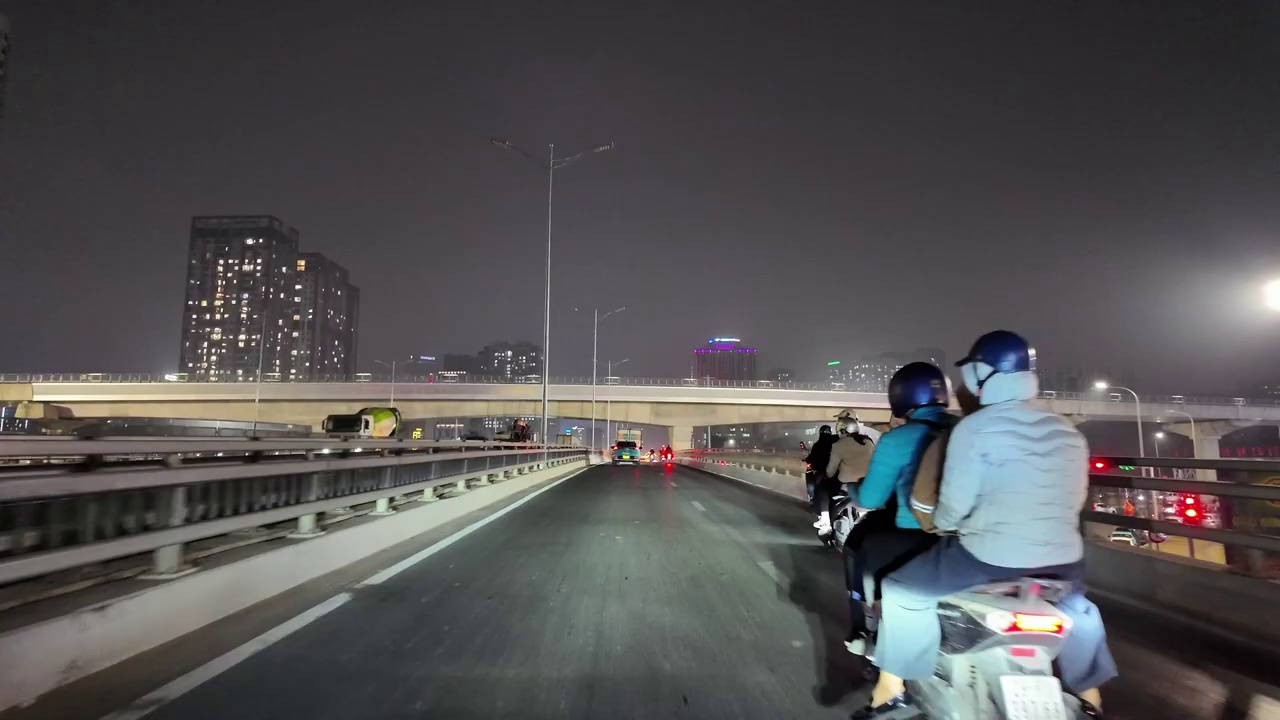acesa: (1257, 274, 1279, 318)
apagada: (577, 134, 626, 159)
